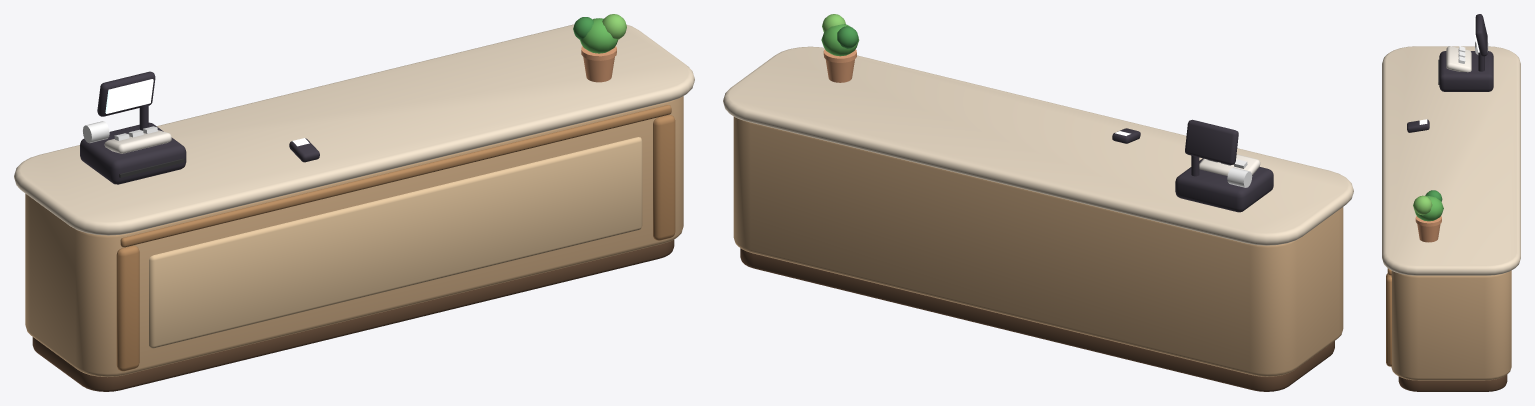
File: shop_counter.glb
3 views of the same model, side by side, from view 1: azimuth 30°, elevation 25°; view 2: azimuth 150°, elevation 25°; view 3: azimuth 270°, elevation 25° (orthographic). The views are drawn at different scales.
Visible parts, largest first — view 1: shop_counter; view 2: shop_counter; view 3: shop_counter.
Part boxes in pixels (x1,y1,x2,y2): shop_counter: (14, 14, 694, 391); shop_counter: (723, 14, 1353, 391); shop_counter: (1382, 14, 1520, 391).
Size of the model in its own units: 3.5 by 1.39 by 0.92.
